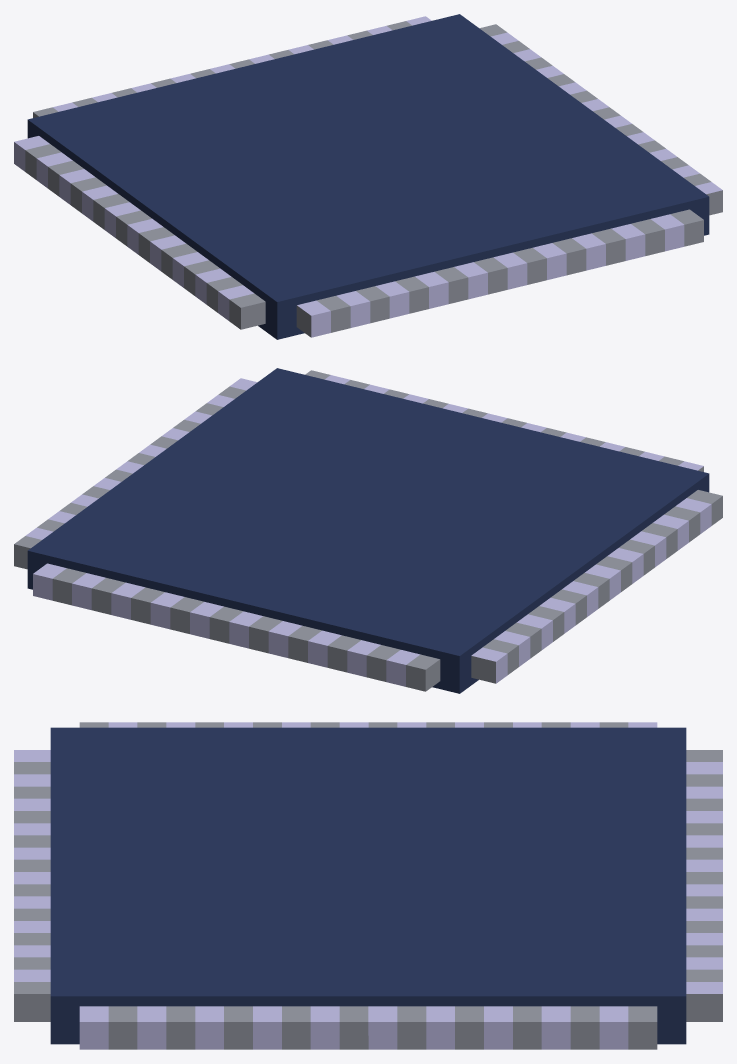
File: 1997_microprocessor.fbx
3 views of the same model, one above another, from view 1: azimuth 30°, elevation 25°; view 2: azimuth 150°, elevation 25°; view 3: azimuth 270°, elevation 25° (orthographic). The views are drawn at different scales.
Parts seen in each view (by area): view 1: 1997_microprocessor; view 2: 1997_microprocessor; view 3: 1997_microprocessor.
Boxes of the visible parts, x1,y1,x2,y2 form: 1997_microprocessor: (14, 14, 722, 339); 1997_microprocessor: (14, 368, 722, 693); 1997_microprocessor: (14, 722, 722, 1049).
Bounding box in the file's own units: 28.94 × 2.17 × 28.94.
